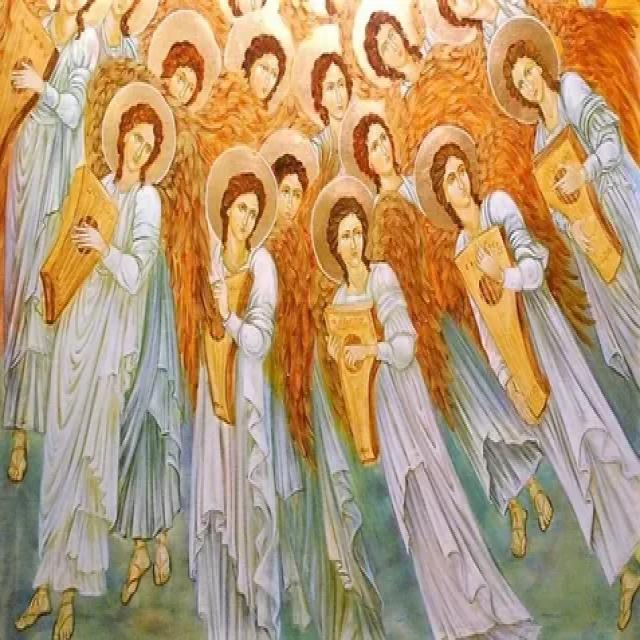angel: (182, 130, 316, 640), (481, 0, 640, 358)
